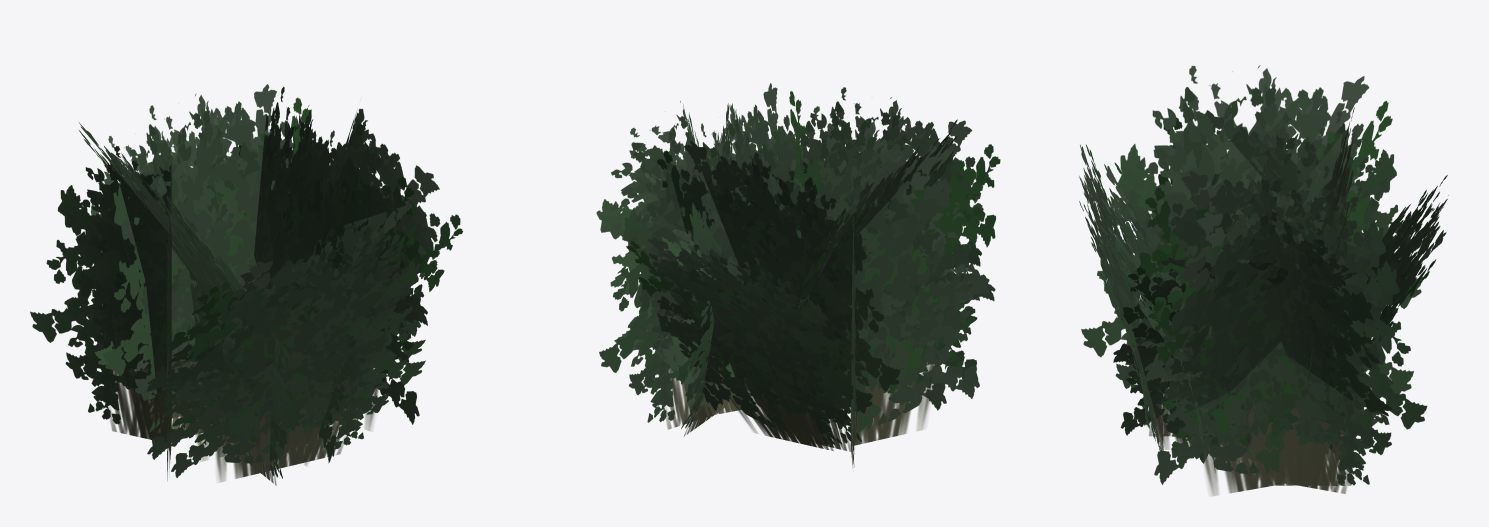
The model's file is bush01.glb.
The picture shows the model from 3 angles, left to right: view 1: azimuth 30°, elevation 25°; view 2: azimuth 150°, elevation 25°; view 3: azimuth 270°, elevation 25°; orthographic projection. The views are drawn at different scales.
Parts seen in each view (by area): view 1: Plane.004; view 2: Plane.004; view 3: Plane.004.
Part boxes in pixels (<box>): Plane.004: <box>30,84,462,485</box>; Plane.004: <box>596,83,1000,467</box>; Plane.004: <box>1079,65,1448,495</box>.
Size of the model in its own units: 2.31 by 2.24 by 2.31.
1 material, 1 textured.
